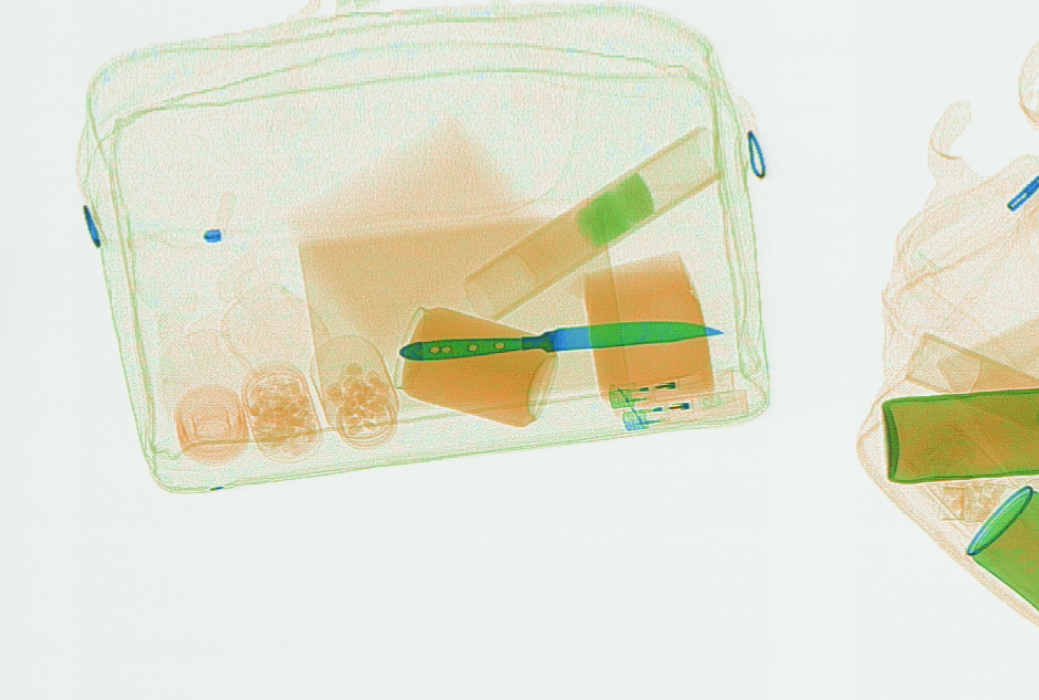firecrackers: (461, 126, 724, 319)
knife: (399, 320, 723, 361)
lighter: (620, 388, 749, 432), (606, 370, 734, 408)
